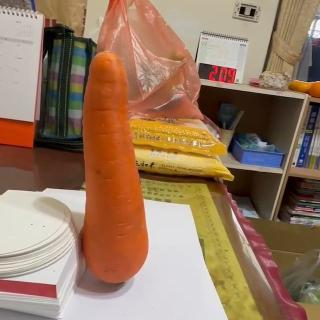carrot: (80, 50, 150, 285)
